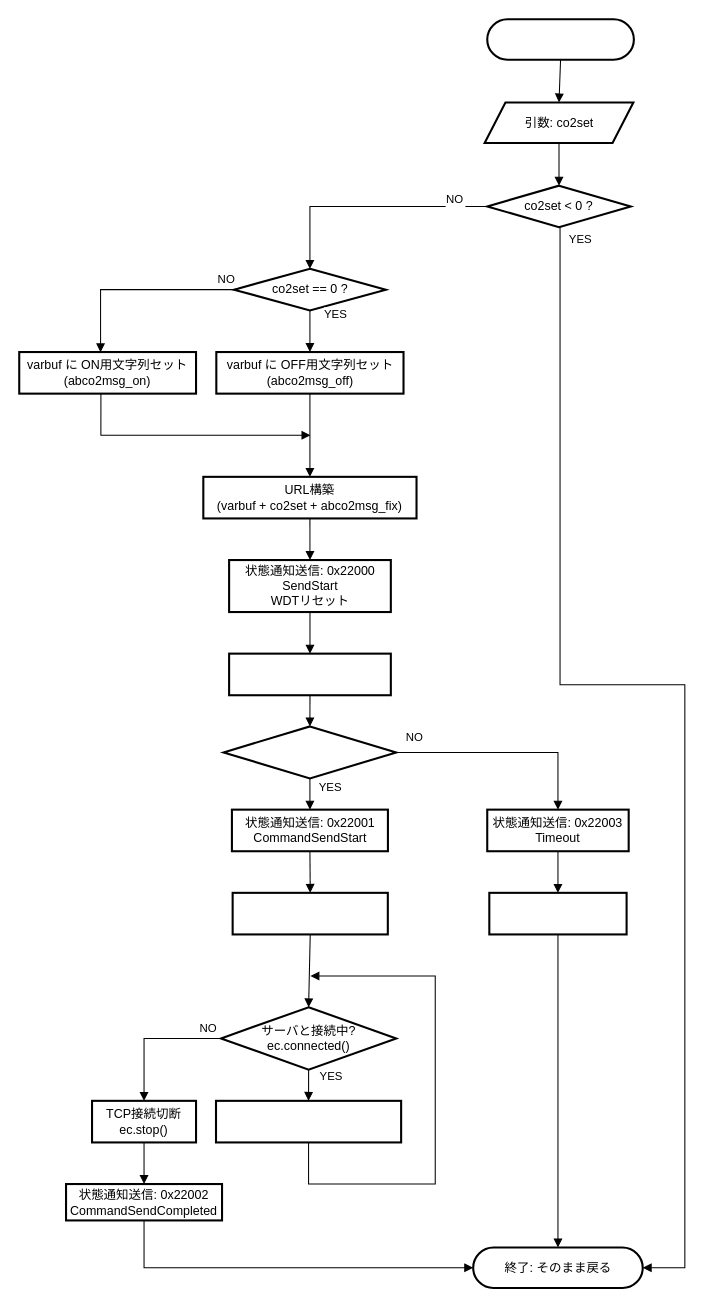
Image size: 711x1306. Some labels were removed from this diagram. The centre of each missing label's shape, as x and y in pixels:
"HTTP GETリクエスト送信 (構築したURL)" goes at [309,913].
"シリアルへエラー出力" goes at [557,913].
"外部ホストへTCP接続試行 ec.connect" goes at [309,674].
"応答データをシリアルへ出力 WDTリセット" goes at [308,1121].
"接続成功? (result == 1)" goes at [309,752].
"開始: opeABCO2" goes at [560,39].
